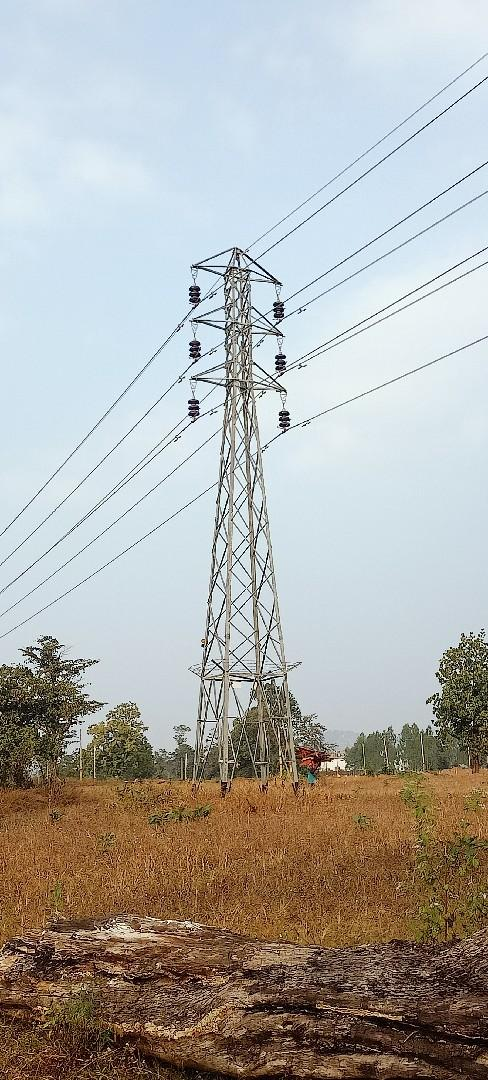GSM Antenna: (185, 239, 307, 749)
